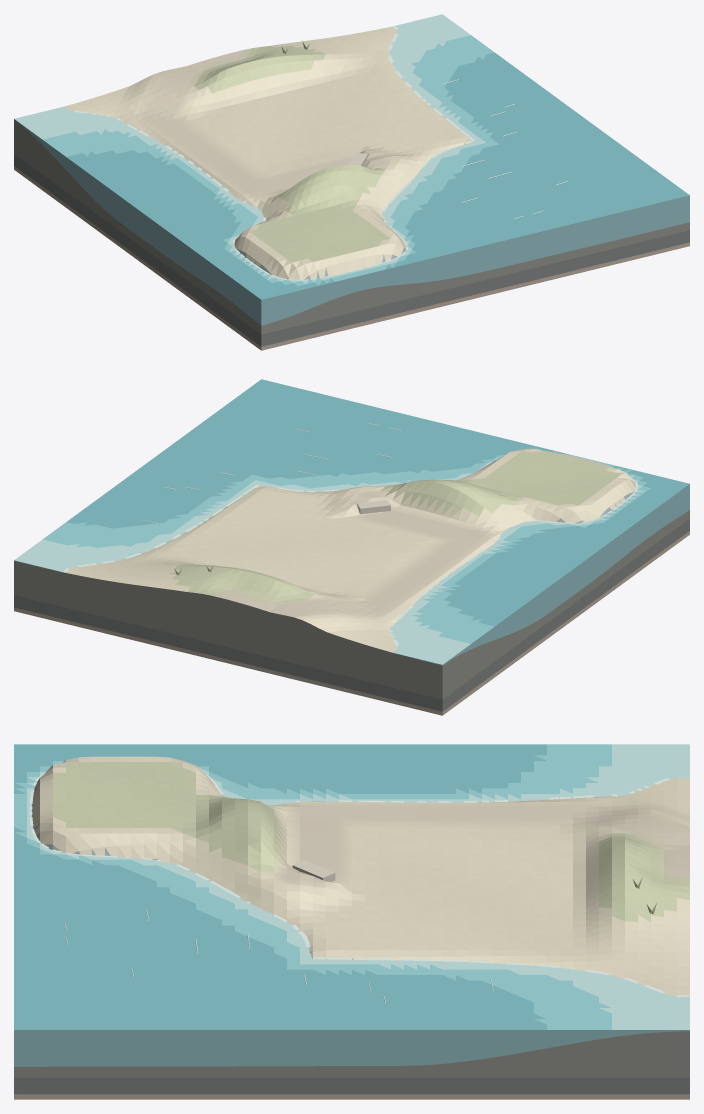
The picture shows the model from 3 angles, top to bottom: view 1: azimuth 30°, elevation 25°; view 2: azimuth 150°, elevation 25°; view 3: azimuth 270°, elevation 25°; orthographic projection. The views are drawn at different scales.
Visible parts, largest first — view 1: proc_water, proc_ground, proc_skirt, proc_water_side, proc_foam; view 2: proc_water, proc_ground, proc_skirt, proc_water_side, proc_foam; view 3: proc_water, proc_ground, proc_skirt, proc_water_side, proc_foam.
Boxes of the visible parts, x1=… form: proc_water: x1=14, y1=14, x2=689, y2=299; proc_ground: x1=64, y1=26, x2=473, y2=279; proc_skirt: x1=14, y1=120, x2=689, y2=350; proc_water_side: x1=14, y1=119, x2=689, y2=325; proc_foam: x1=74, y1=26, x2=474, y2=280; proc_water: x1=14, y1=379, x2=689, y2=664; proc_ground: x1=64, y1=448, x2=635, y2=652; proc_skirt: x1=14, y1=510, x2=689, y2=715; proc_water_side: x1=14, y1=484, x2=689, y2=665; proc_foam: x1=63, y1=478, x2=637, y2=645; proc_water: x1=14, y1=744, x2=689, y2=1029; proc_ground: x1=32, y1=756, x2=689, y2=996; proc_skirt: x1=14, y1=1031, x2=689, y2=1099; proc_water_side: x1=14, y1=1030, x2=689, y2=1066; proc_foam: x1=29, y1=772, x2=688, y2=997.
Size of the model in its own units: 8 by 1.4 by 8.
